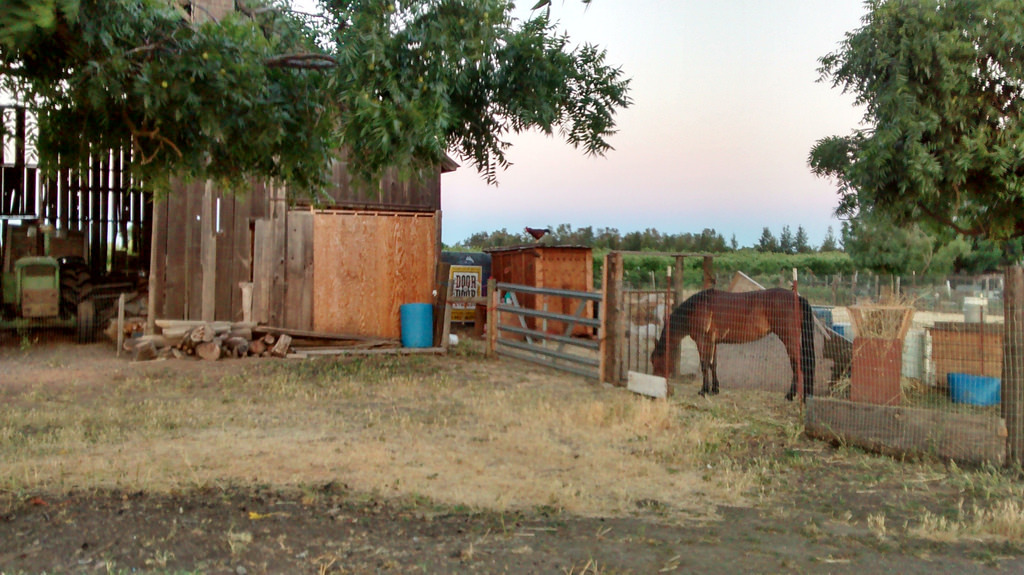Horse: (651, 288, 816, 407)
